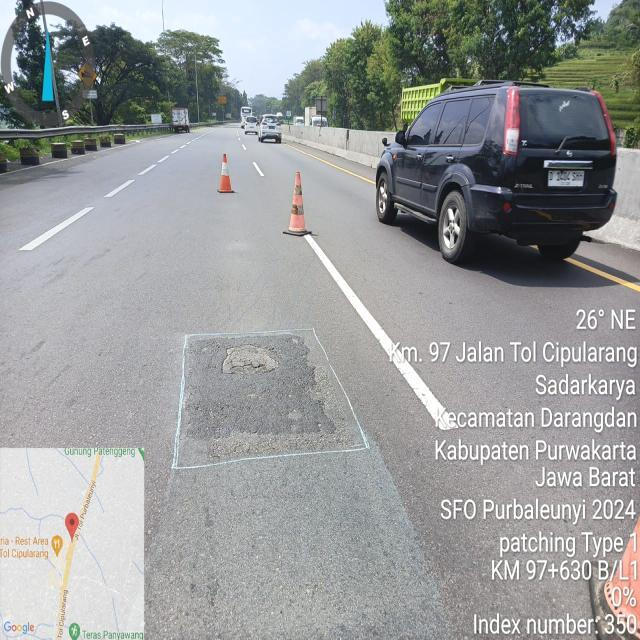Buraco: (218, 342, 284, 377)
